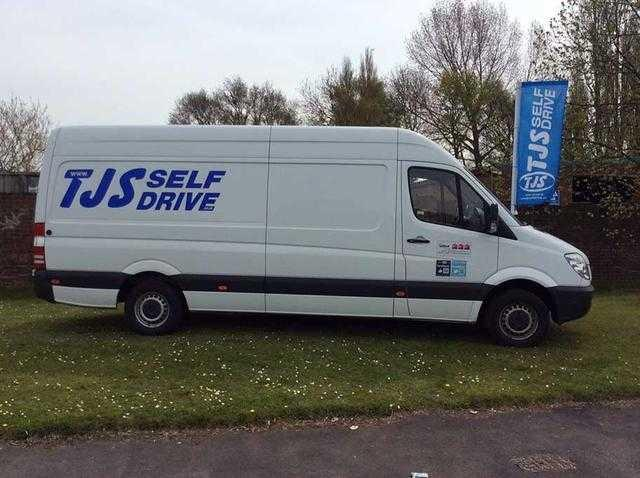car: (40, 116, 596, 350)
